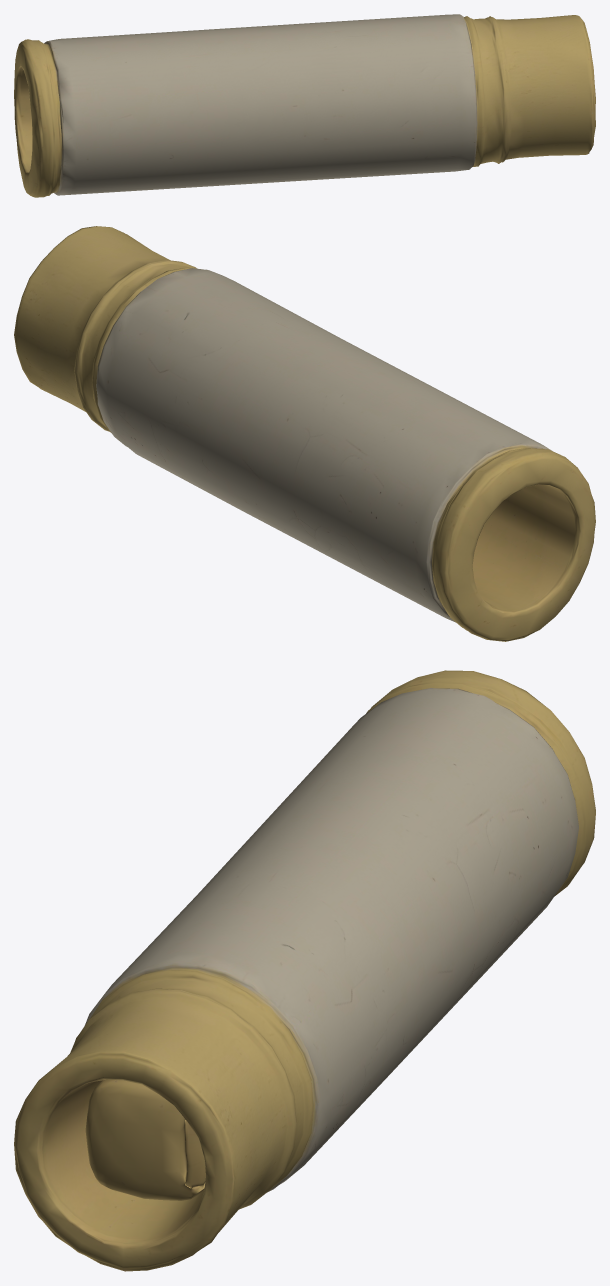
Rendered from ceramic-fuse.glb.
3 views of the same model, one above another, from view 1: azimuth 30°, elevation 25°; view 2: azimuth 150°, elevation 25°; view 3: azimuth 270°, elevation 25° (orthographic). The views are drawn at different scales.
Visible parts, largest first — view 1: tripo_node_d57c5baa-763f-4a06-98e8-6660f5679f22; view 2: tripo_node_d57c5baa-763f-4a06-98e8-6660f5679f22; view 3: tripo_node_d57c5baa-763f-4a06-98e8-6660f5679f22.
Part boxes in pixels (x1,y1,x2,y2): tripo_node_d57c5baa-763f-4a06-98e8-6660f5679f22: (14,14,595,197); tripo_node_d57c5baa-763f-4a06-98e8-6660f5679f22: (14,226,595,641); tripo_node_d57c5baa-763f-4a06-98e8-6660f5679f22: (14,670,595,1271).
Size of the model in its own units: 0.2392 by 0.066 by 0.1446.
1 material, 1 textured.
